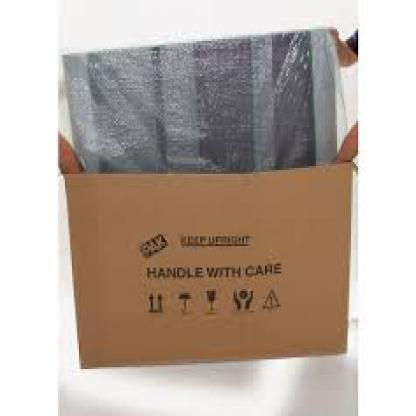CARDBOARD: (60, 160, 351, 367)
